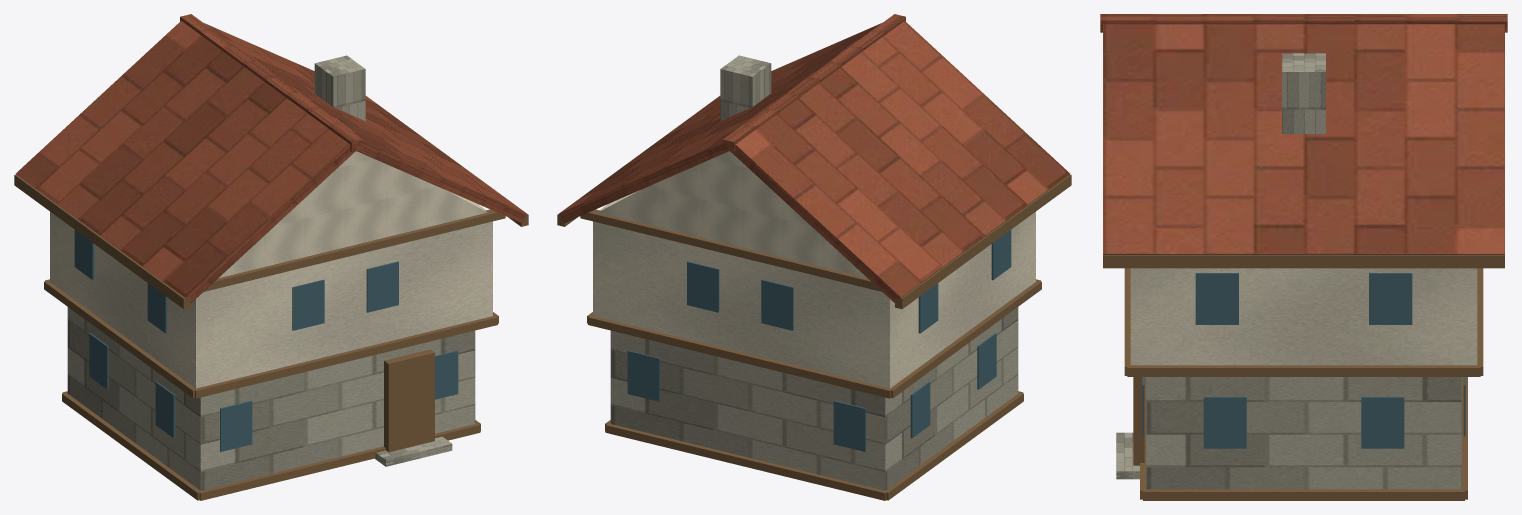
The picture shows the model from 3 angles, left to right: view 1: azimuth 30°, elevation 25°; view 2: azimuth 150°, elevation 25°; view 3: azimuth 270°, elevation 25°; orthographic projection. The views are drawn at different scales.
Visible parts, largest first — view 1: house-roof, house-plaster, house-stone, house-wood; view 2: house-roof, house-plaster, house-stone, house-wood; view 3: house-roof, house-stone, house-plaster, house-wood.
Part boxes in pixels (box(x1,y1,x2,y2)): house-roof: box(15, 14, 526, 303); house-plaster: box(50, 151, 492, 388); house-stone: box(67, 55, 475, 490); house-wood: box(14, 98, 528, 500); house-roof: box(559, 14, 1070, 303); house-plaster: box(593, 151, 1035, 388); house-stone: box(610, 55, 1018, 490); house-wood: box(557, 98, 1071, 500); house-roof: box(1100, 14, 1507, 254); house-stone: box(1116, 53, 1461, 489); house-plaster: box(1130, 268, 1477, 365); house-wood: box(1103, 254, 1504, 500).
Bounding box in the file's own units: 8.54 × 8.03 × 7.36.
4 materials, 3 textured.
